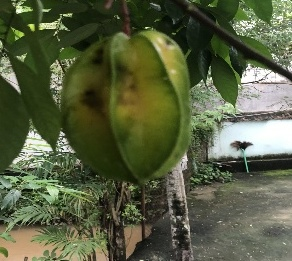Khe: (58, 26, 197, 189)
